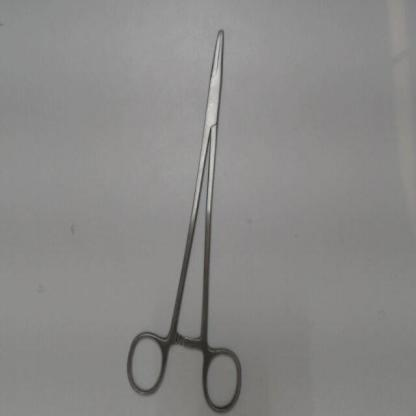8 Mayo Needle Holder: (118, 13, 250, 414)
